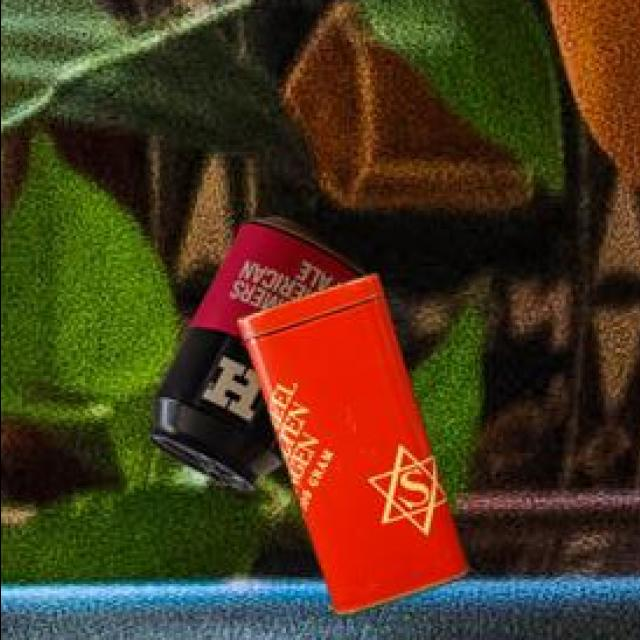logam: (235, 279, 466, 620), (144, 221, 361, 494)
